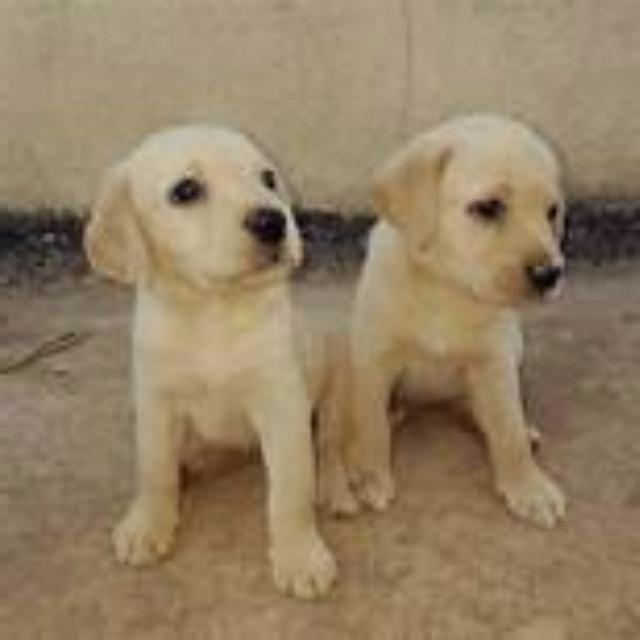dog: (36, 100, 334, 635), (335, 91, 600, 537)
